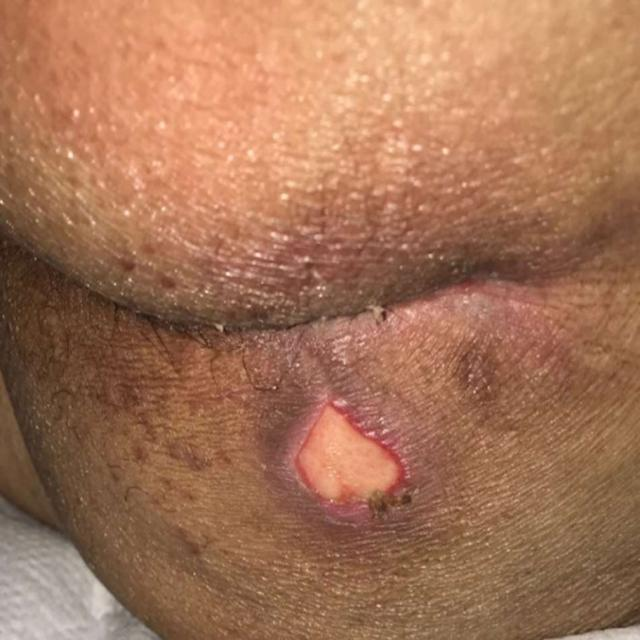stage-2: (292, 408, 406, 515)
